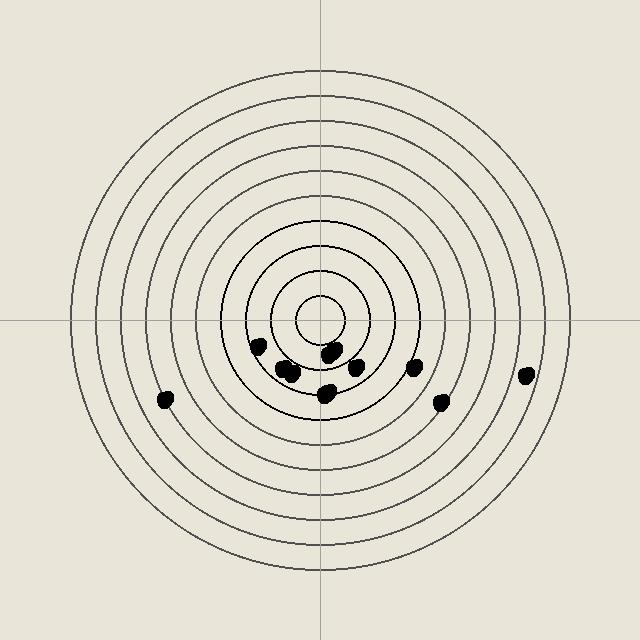horizontal_scatter: (345, 357, 365, 377), (317, 382, 337, 402), (272, 358, 292, 378), (318, 344, 338, 364), (323, 340, 343, 360), (430, 392, 450, 412), (515, 365, 535, 385), (247, 336, 267, 356), (314, 384, 334, 404), (281, 363, 301, 383), (154, 389, 174, 409), (403, 357, 423, 377)
